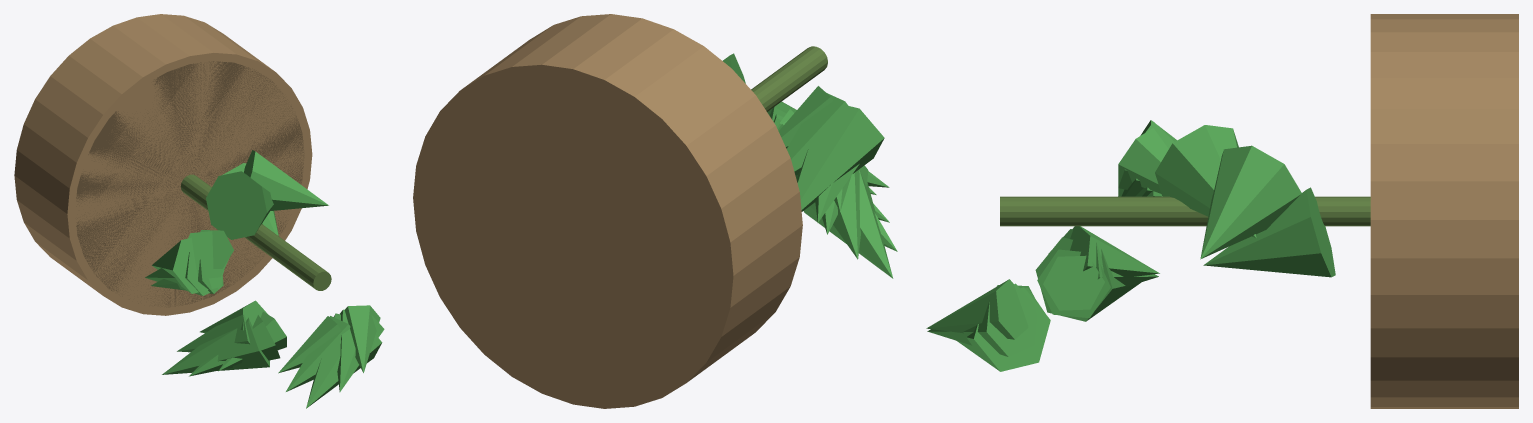
Rendered from stage_3_vegetativa_media.glb.
3 views of the same model, side by side, from view 1: azimuth 30°, elevation 25°; view 2: azimuth 150°, elevation 25°; view 3: azimuth 270°, elevation 25° (orthographic). The views are drawn at different scales.
Visible parts, largest first — view 1: world; view 2: world; view 3: world.
Boxes of the visible parts, box(x1,y1,x2,y2) form: world: box(14, 14, 384, 408); world: box(413, 14, 897, 408); world: box(926, 14, 1518, 408).
Size of the model in its own units: 16 by 16 by 23.99.
